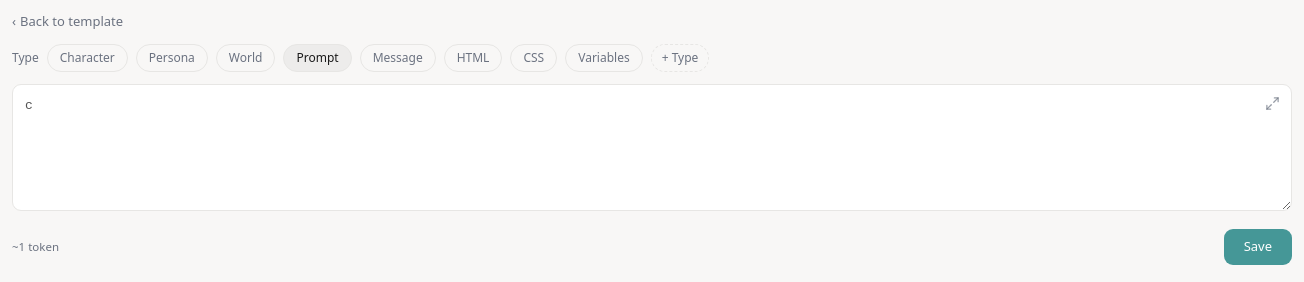
Test case: BookNavigator › pop returns to the previous level and sets backward direction
The width and height of the screenshot is (1304, 282).
What coordinates should you click on to do the following:
click the button with test id "nav-back"
I would click on:
 (68, 22)
Its box is [12,12,123,32].
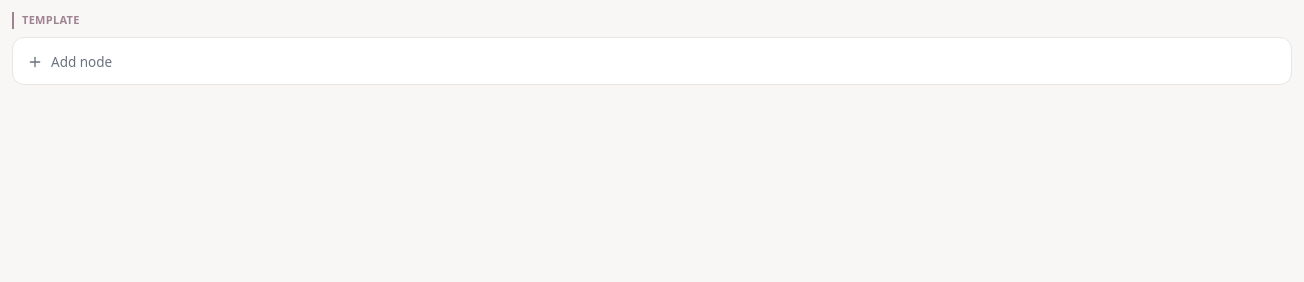
expect the element with test id "nav-level-sessionRoot" is shown: met, box [12,12,1292,85]
